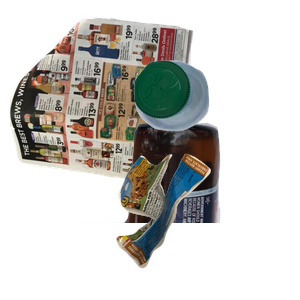glass: (29, 120, 242, 300)
paper: (10, 15, 196, 195)
plastic: (132, 58, 300, 182)
trash: (114, 151, 300, 300)
